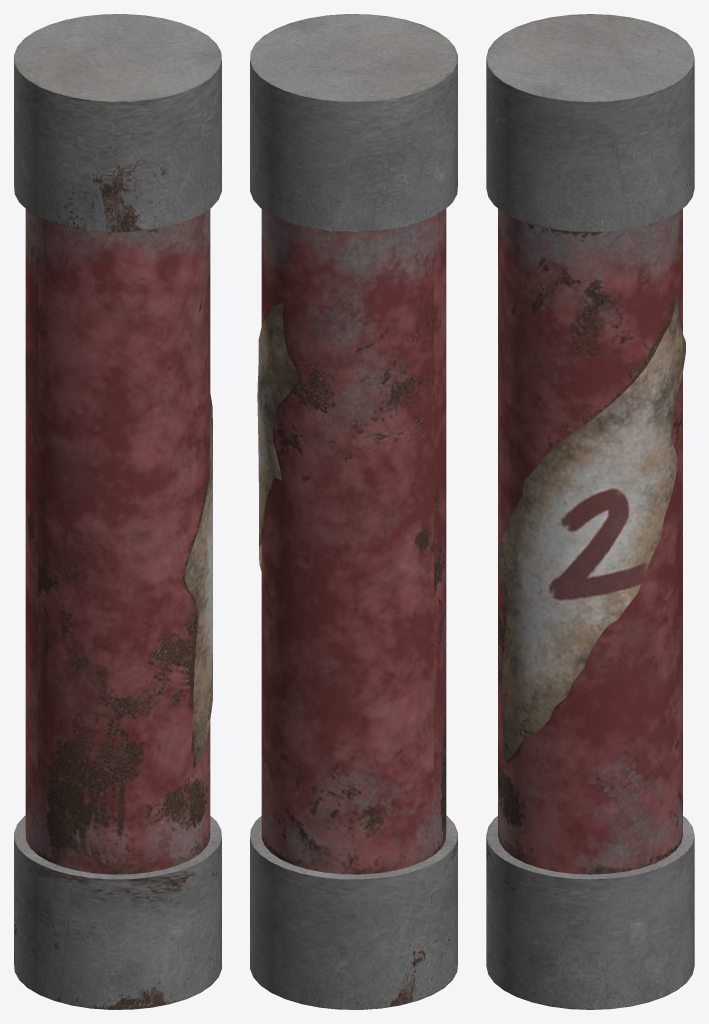
File: fuzivel 2.fbx
The picture shows the model from 3 angles, left to right: view 1: azimuth 30°, elevation 25°; view 2: azimuth 150°, elevation 25°; view 3: azimuth 270°, elevation 25°; orthographic projection.
Parts seen in each view (by area): view 1: Plane.003; view 2: Plane.003; view 3: Plane.003.
Part boxes in pixels (<box>): Plane.003: <box>14,14,221,1009</box>; Plane.003: <box>250,14,457,1009</box>; Plane.003: <box>486,14,694,1009</box>.
Size of the model in its own units: 8.25 by 39.65 by 8.25.
